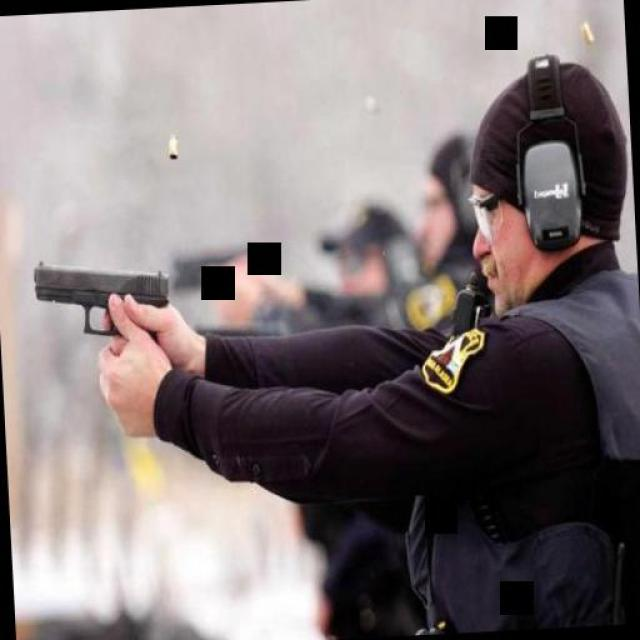gun: (26, 239, 182, 379)
